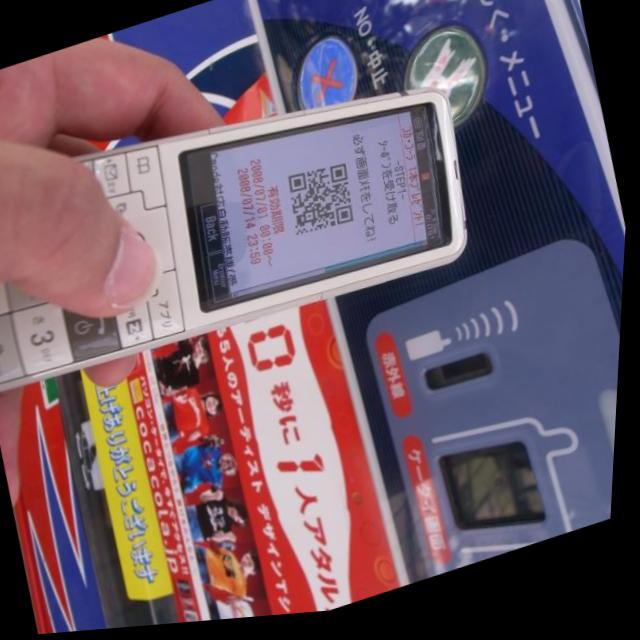qrcode: (285, 163, 362, 246)
